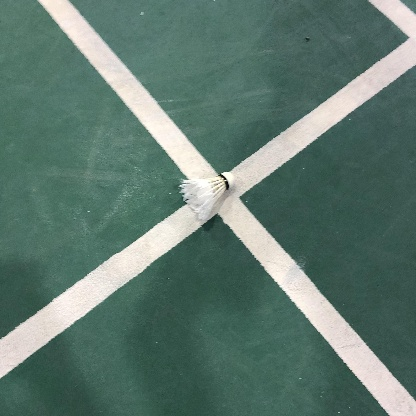ball_single: (178, 172, 235, 220)
